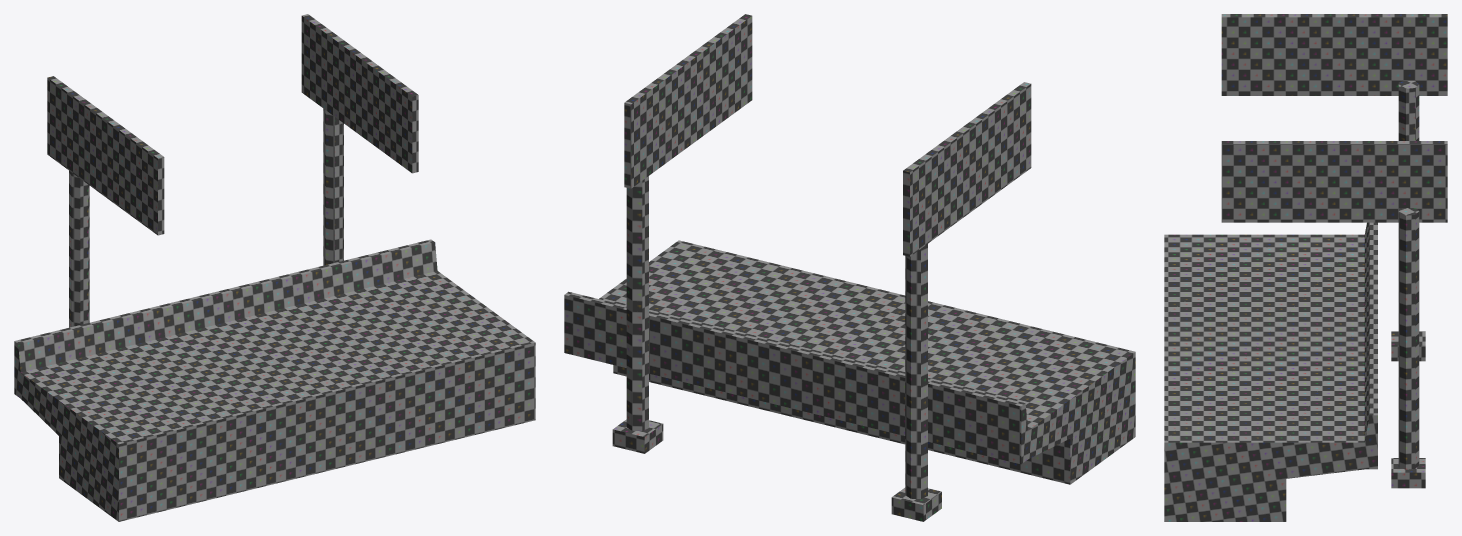
Rendered from 004-advertizing.glb.
3 renders of one model, left to right at view 1: azimuth 30°, elevation 25°; view 2: azimuth 150°, elevation 25°; view 3: azimuth 270°, elevation 25°, orthographic. The views are drawn at different scales.
Parts seen in each view (by area): view 1: freeway, billboard.002, billboard.001; view 2: freeway, billboard.002, billboard.001; view 3: freeway, billboard.002, billboard.001.
Boxes of the visible parts, left/top/right/bottom form: freeway: left=14, top=239, right=535, bottom=521; billboard.002: left=301, top=14, right=418, bottom=265; billboard.001: left=47, top=76, right=164, bottom=327; freeway: left=564, top=240, right=1135, bottom=484; billboard.002: left=612, top=14, right=752, bottom=453; billboard.001: left=891, top=82, right=1031, bottom=521; freeway: left=1164, top=222, right=1377, bottom=521; billboard.002: left=1221, top=141, right=1447, bottom=488; billboard.001: left=1221, top=14, right=1447, bottom=361.
Bounding box in the file's own units: 3.42 × 2.56 × 1.97.
1 material, 1 textured.
